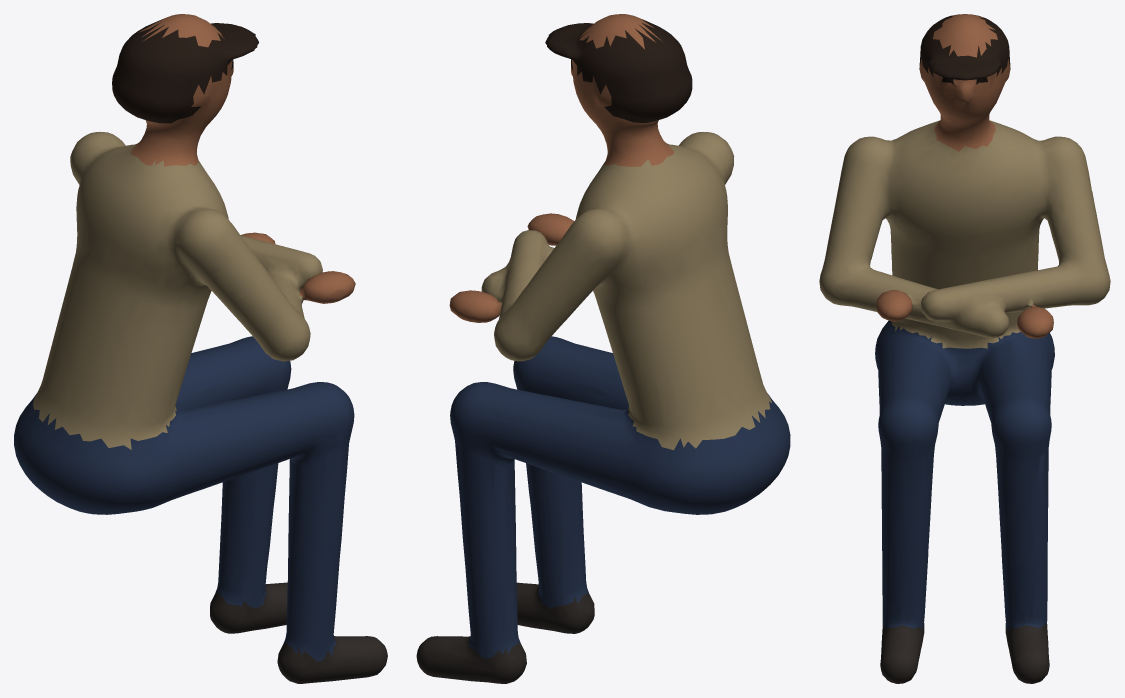
The model's file is SM_Crowd_Seated_D.glb.
The picture shows the model from 3 angles, left to right: view 1: azimuth 30°, elevation 25°; view 2: azimuth 150°, elevation 25°; view 3: azimuth 270°, elevation 25°; orthographic projection. The views are drawn at different scales.
Parts seen in each view (by area): view 1: SM_Crowd_Seated_D; view 2: SM_Crowd_Seated_D; view 3: SM_Crowd_Seated_D.
Part boxes in pixels (<box>): SM_Crowd_Seated_D: <box>14,14,387,683</box>; SM_Crowd_Seated_D: <box>416,14,790,683</box>; SM_Crowd_Seated_D: <box>819,14,1110,683</box>.
Bounding box in the file's own units: 0.6983 × 1.4 × 0.6171.
